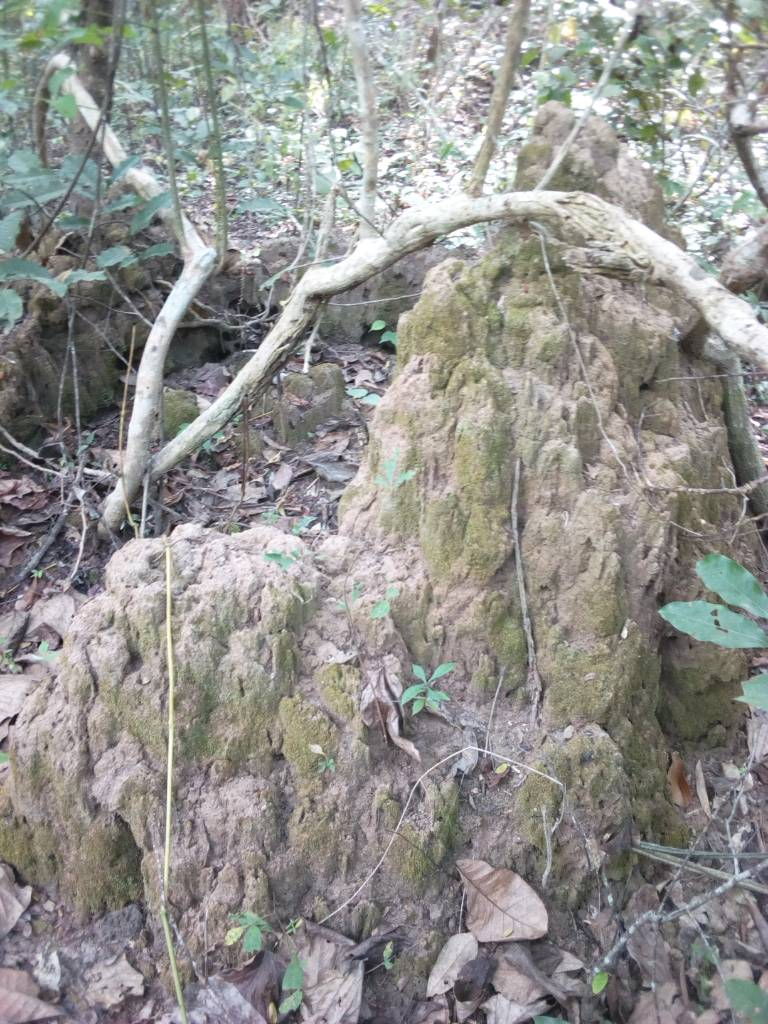Virose: (1, 94, 768, 988)
